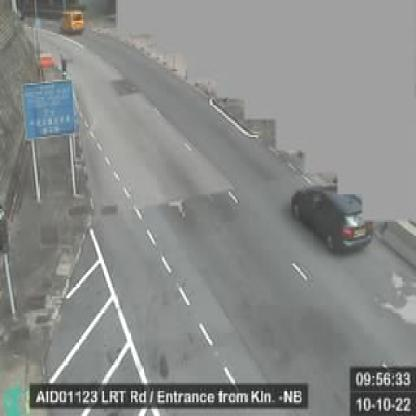Car: (294, 186, 376, 254), (64, 9, 86, 33)
